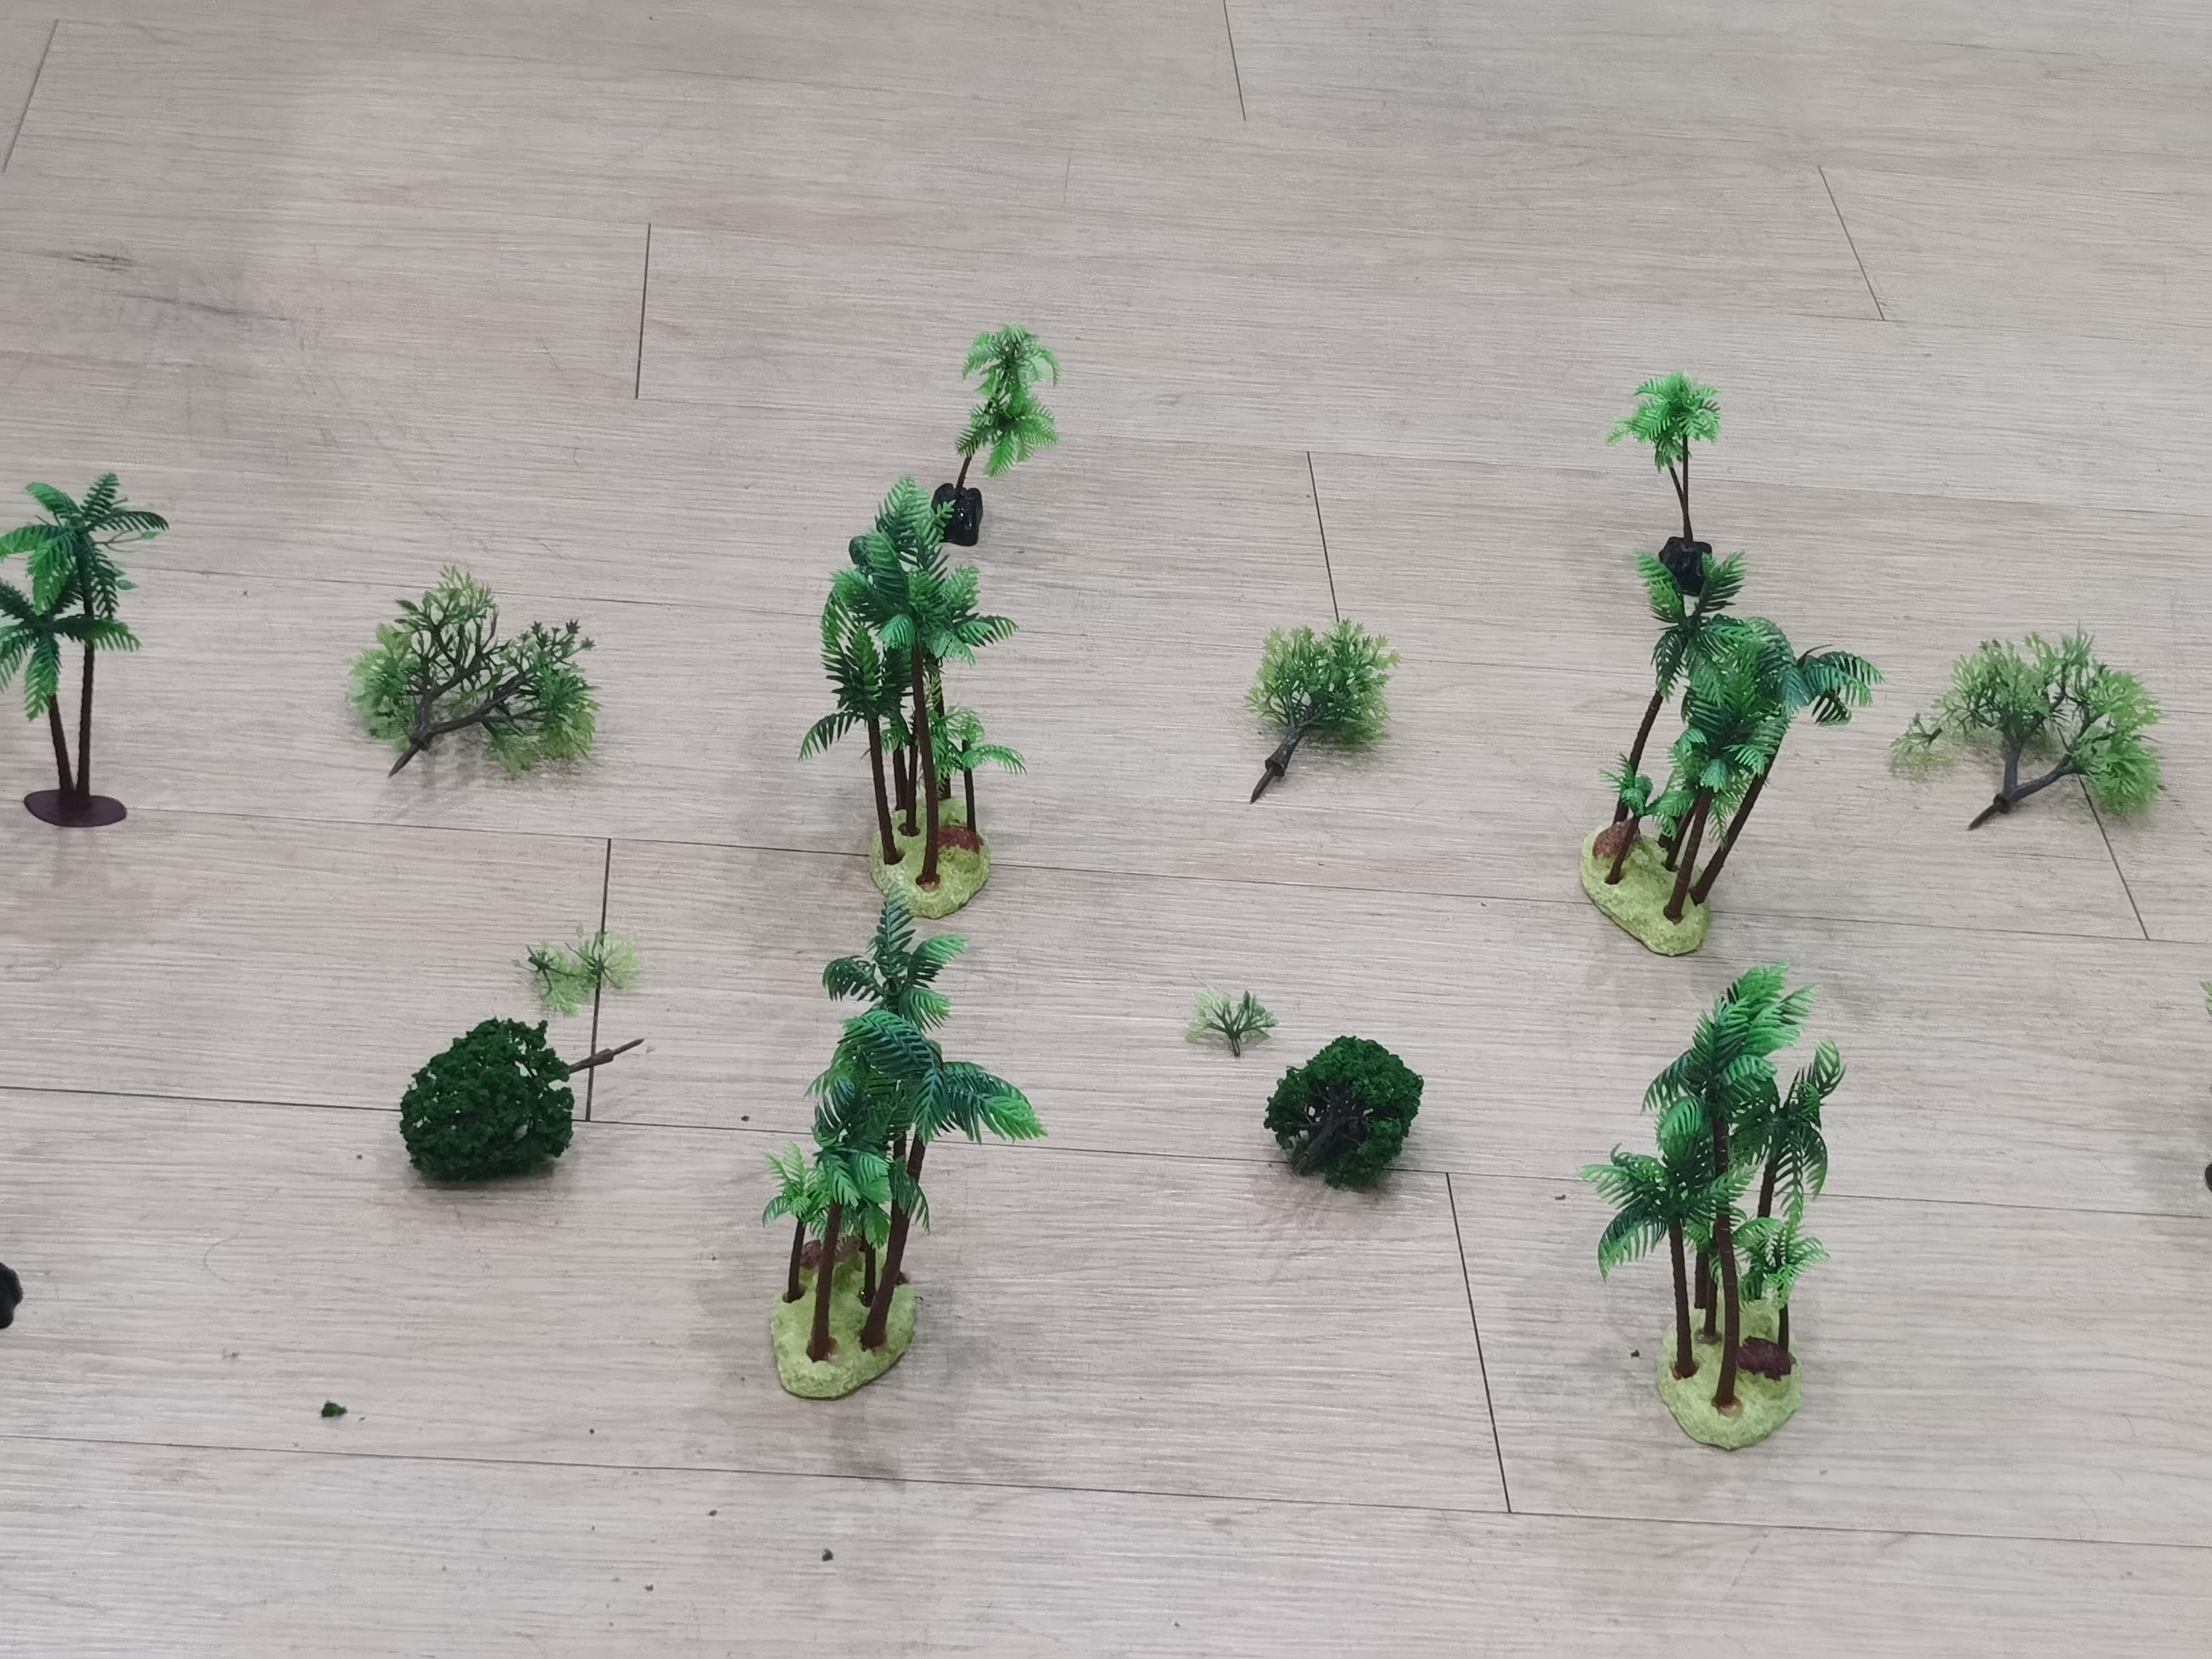corn: (752, 890, 1047, 1403), (1575, 976, 1881, 1450), (1543, 556, 1886, 953), (794, 476, 1049, 925), (2, 471, 179, 840), (1606, 359, 1747, 580), (920, 326, 1054, 544)
